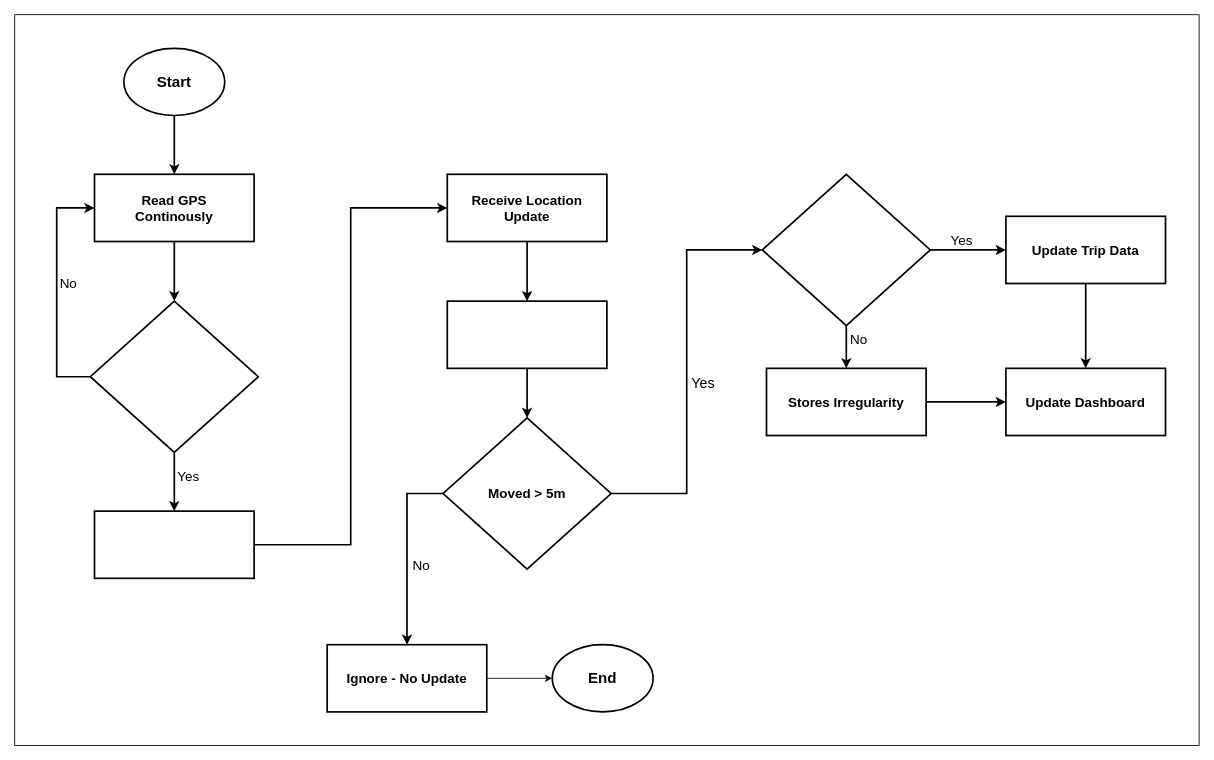
The diagram is 1214 pixels wide and 760 high, and some of its shapes have lost their labels. The shapes that lost their labels are listed below. From the top down, each one's centre as x and y in pixels, then its label:
the point at 846,249: Inside Defined Geofence?
the point at 526,334: Compute Distance To Previous Point
the point at 174,376: Send interval reached? 10s
the point at 174,544: HTTPS POST /location lat, lng
